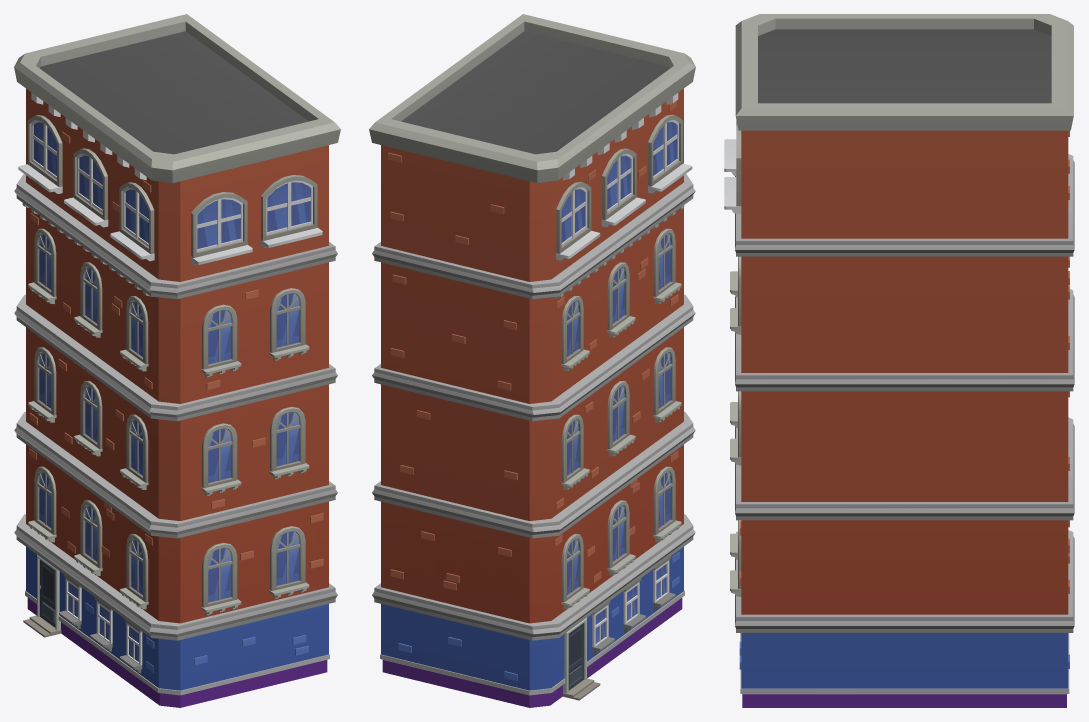
Rendered from Building_18_1_G.fbx.
The picture shows the model from 3 angles, left to right: view 1: azimuth 30°, elevation 25°; view 2: azimuth 150°, elevation 25°; view 3: azimuth 270°, elevation 25°; orthographic projection. The views are drawn at different scales.
Visible parts, largest first — view 1: Building_18_1_G; view 2: Building_18_1_G; view 3: Building_18_1_G.
Part boxes in pixels (x1=…): Building_18_1_G: x1=14, y1=14, x2=340, y2=707; Building_18_1_G: x1=369, y1=14, x2=695, y2=707; Building_18_1_G: x1=724, y1=14, x2=1074, y2=707.
Size of the model in its own units: 719 by 2014 by 1059.
